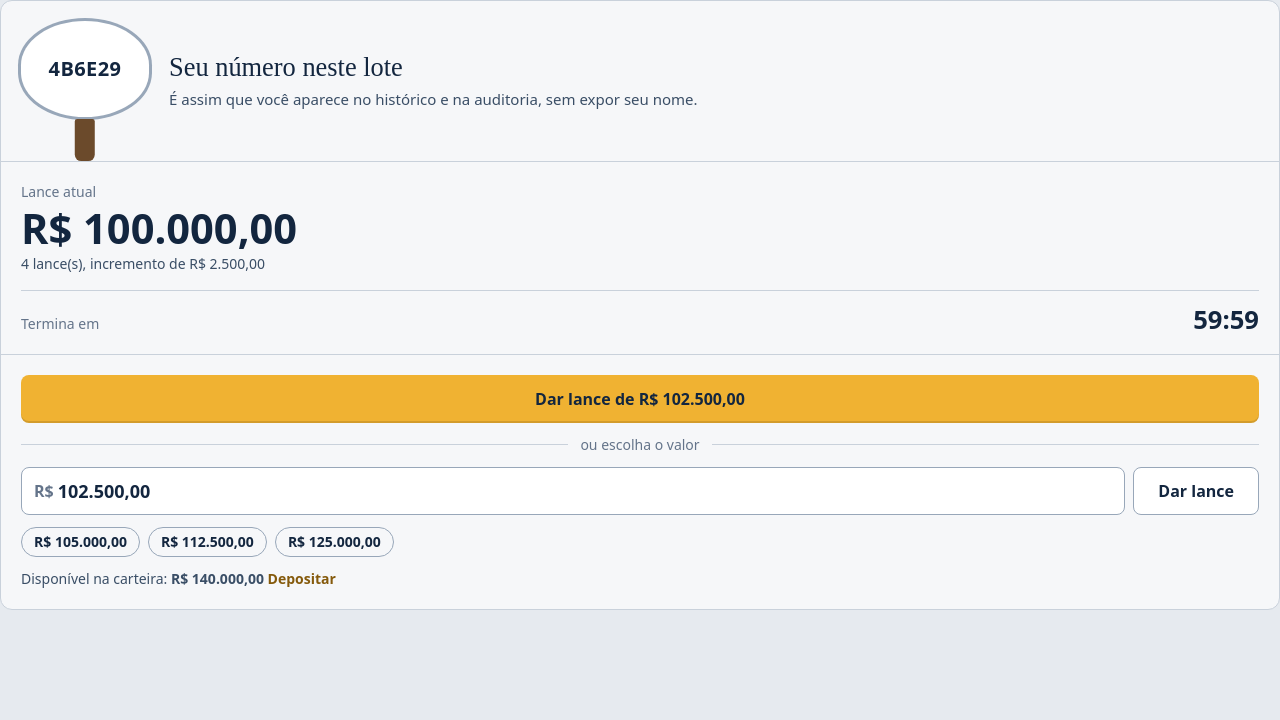
BidPanel › explica saldo insuficiente e leva para a carteira
Step 1. Click the button "Dar lance de R$ 102.500,00" → (640, 399), box [21,375,1259,423]
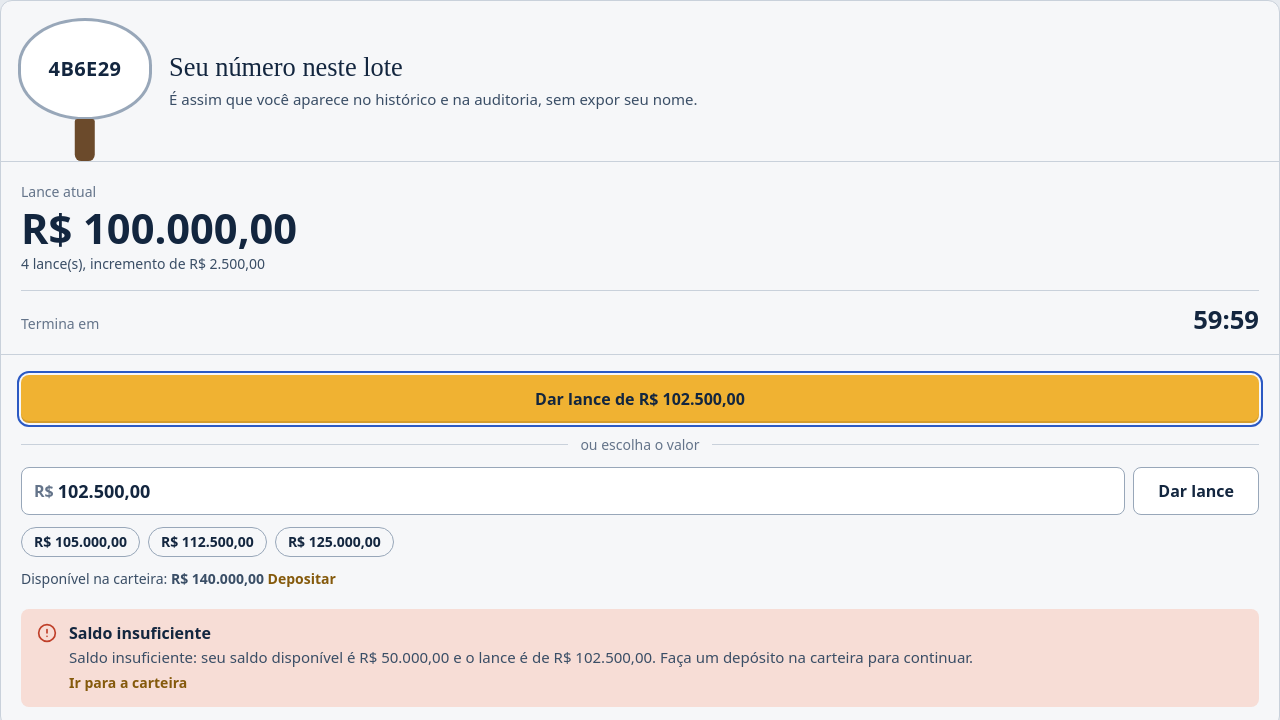
Expected: the message shows "Saldo insuficiente", [69,622,211,644]
